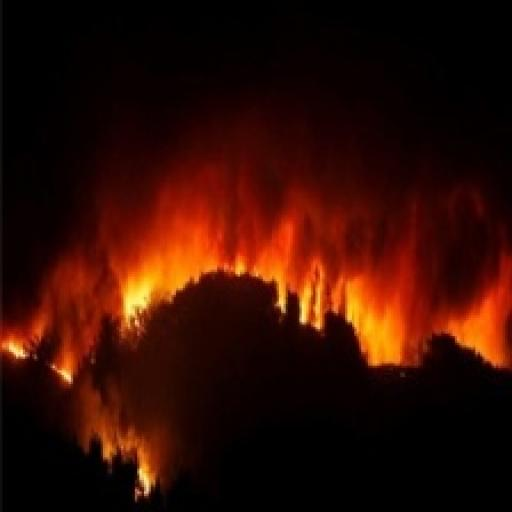fire and smoke: (5, 83, 511, 377)
